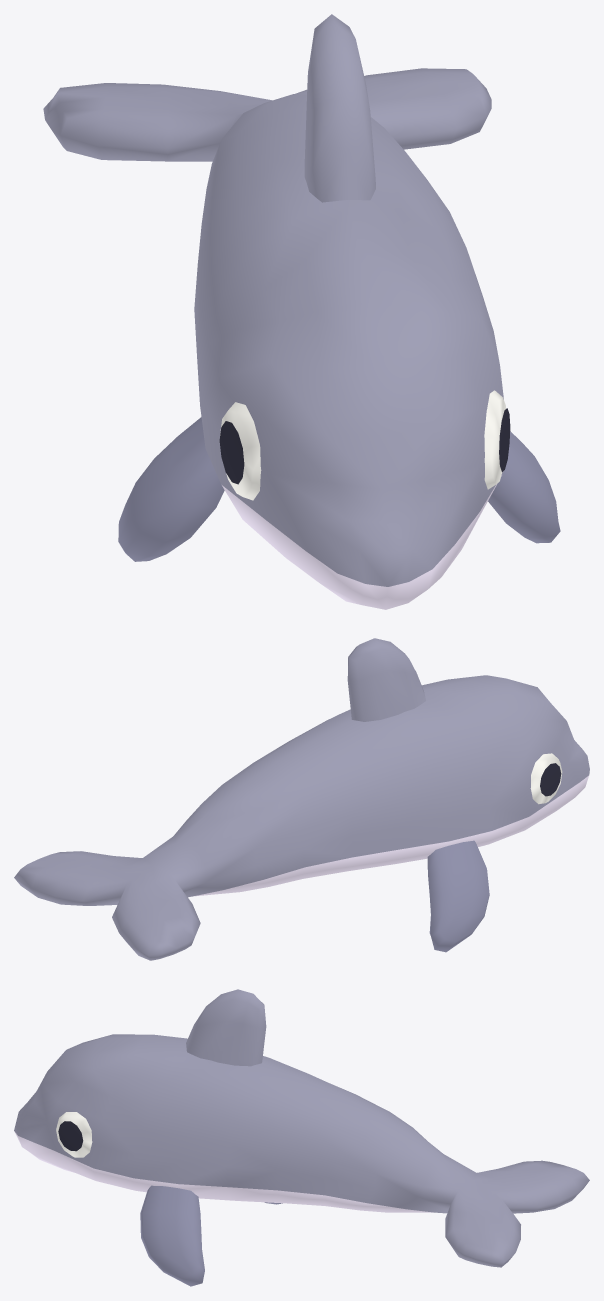
The model's file is dolphin.gltf.
3 renders of one model, top to bottom at view 1: azimuth 30°, elevation 25°; view 2: azimuth 150°, elevation 25°; view 3: azimuth 270°, elevation 25°, orthographic. The views are drawn at different scales.
Visible parts, largest first — view 1: huitugou_5168_34; view 2: huitugou_5168_34; view 3: huitugou_5168_34.
Boxes of the visible parts, left/top/right/bottom form: huitugou_5168_34: left=43, top=14, right=560, bottom=609; huitugou_5168_34: left=14, top=638, right=589, bottom=960; huitugou_5168_34: left=14, top=989, right=589, bottom=1286.
Bounding box in the file's own units: 0.6319 × 0.4982 × 1.01.
1 material, 1 textured.
